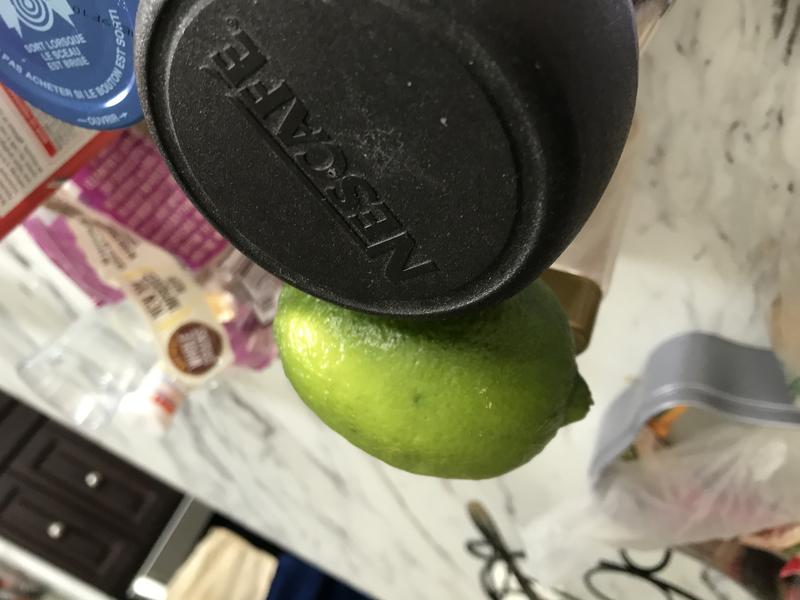lime: (262, 252, 600, 491)
